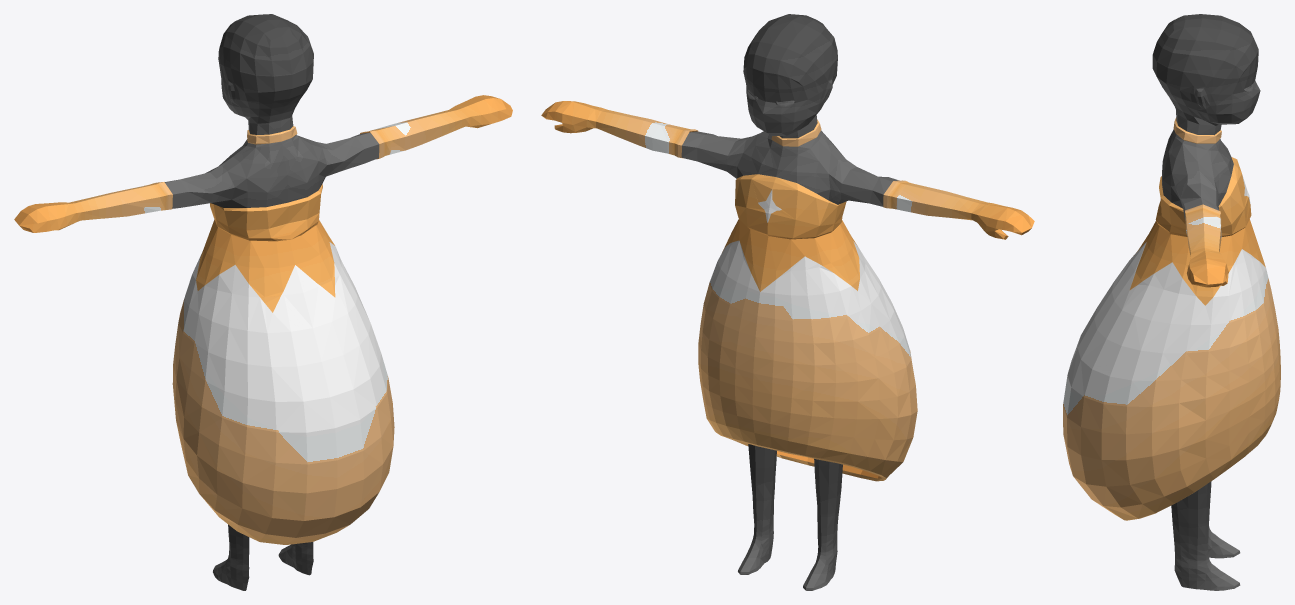
The model's file is CharSkyKid_Body_AnnivYellowGown.glb.
3 views of the same model, side by side, from view 1: azimuth 30°, elevation 25°; view 2: azimuth 150°, elevation 25°; view 3: azimuth 270°, elevation 25° (orthographic).
Parts seen in each view (by area): view 1: CharSkyKid_Body_AnnivYellowGown; view 2: CharSkyKid_Body_AnnivYellowGown; view 3: CharSkyKid_Body_AnnivYellowGown.
Boxes of the visible parts, x1,y1,x2,y2 form: CharSkyKid_Body_AnnivYellowGown: (14, 14, 512, 590); CharSkyKid_Body_AnnivYellowGown: (541, 14, 1034, 590); CharSkyKid_Body_AnnivYellowGown: (1063, 14, 1280, 590).
Size of the model in its own units: 13.83 by 14.94 by 5.34.
Materials: 1 (1 with a texture image).
